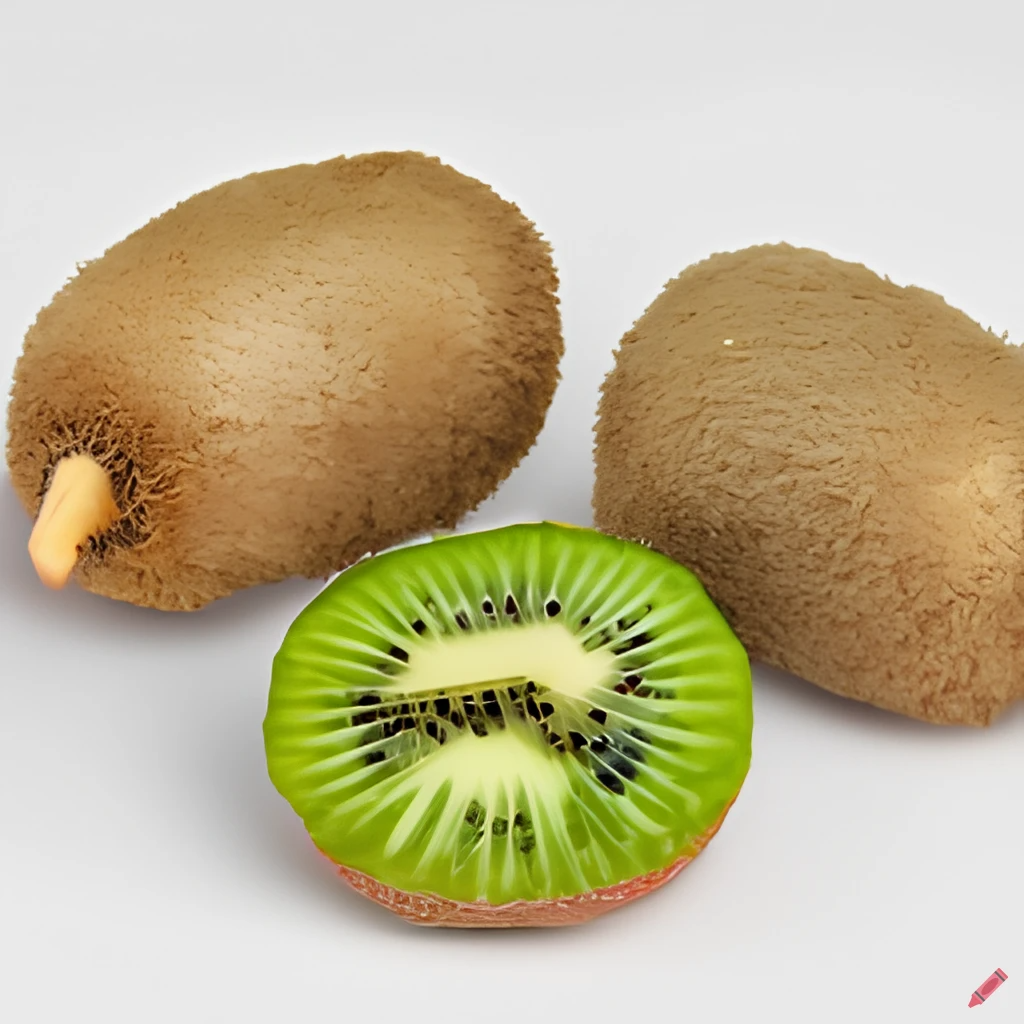Kiwi: (238, 496, 822, 1016), (577, 205, 1024, 732)
